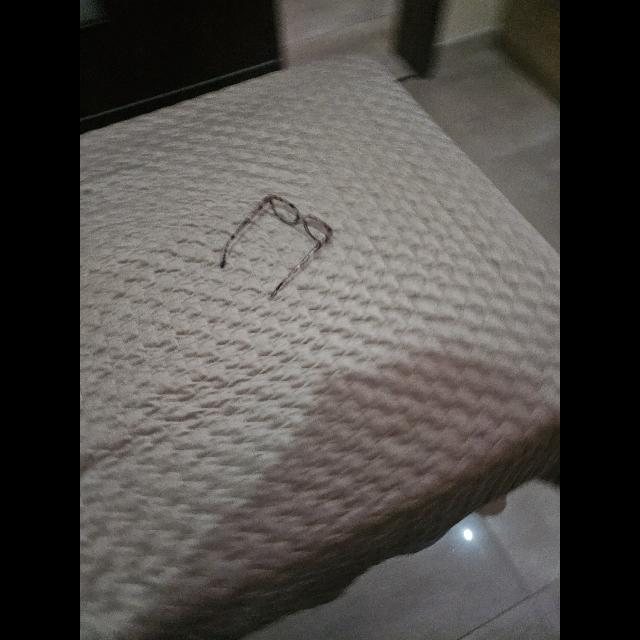glasses: (220, 195, 332, 299)
